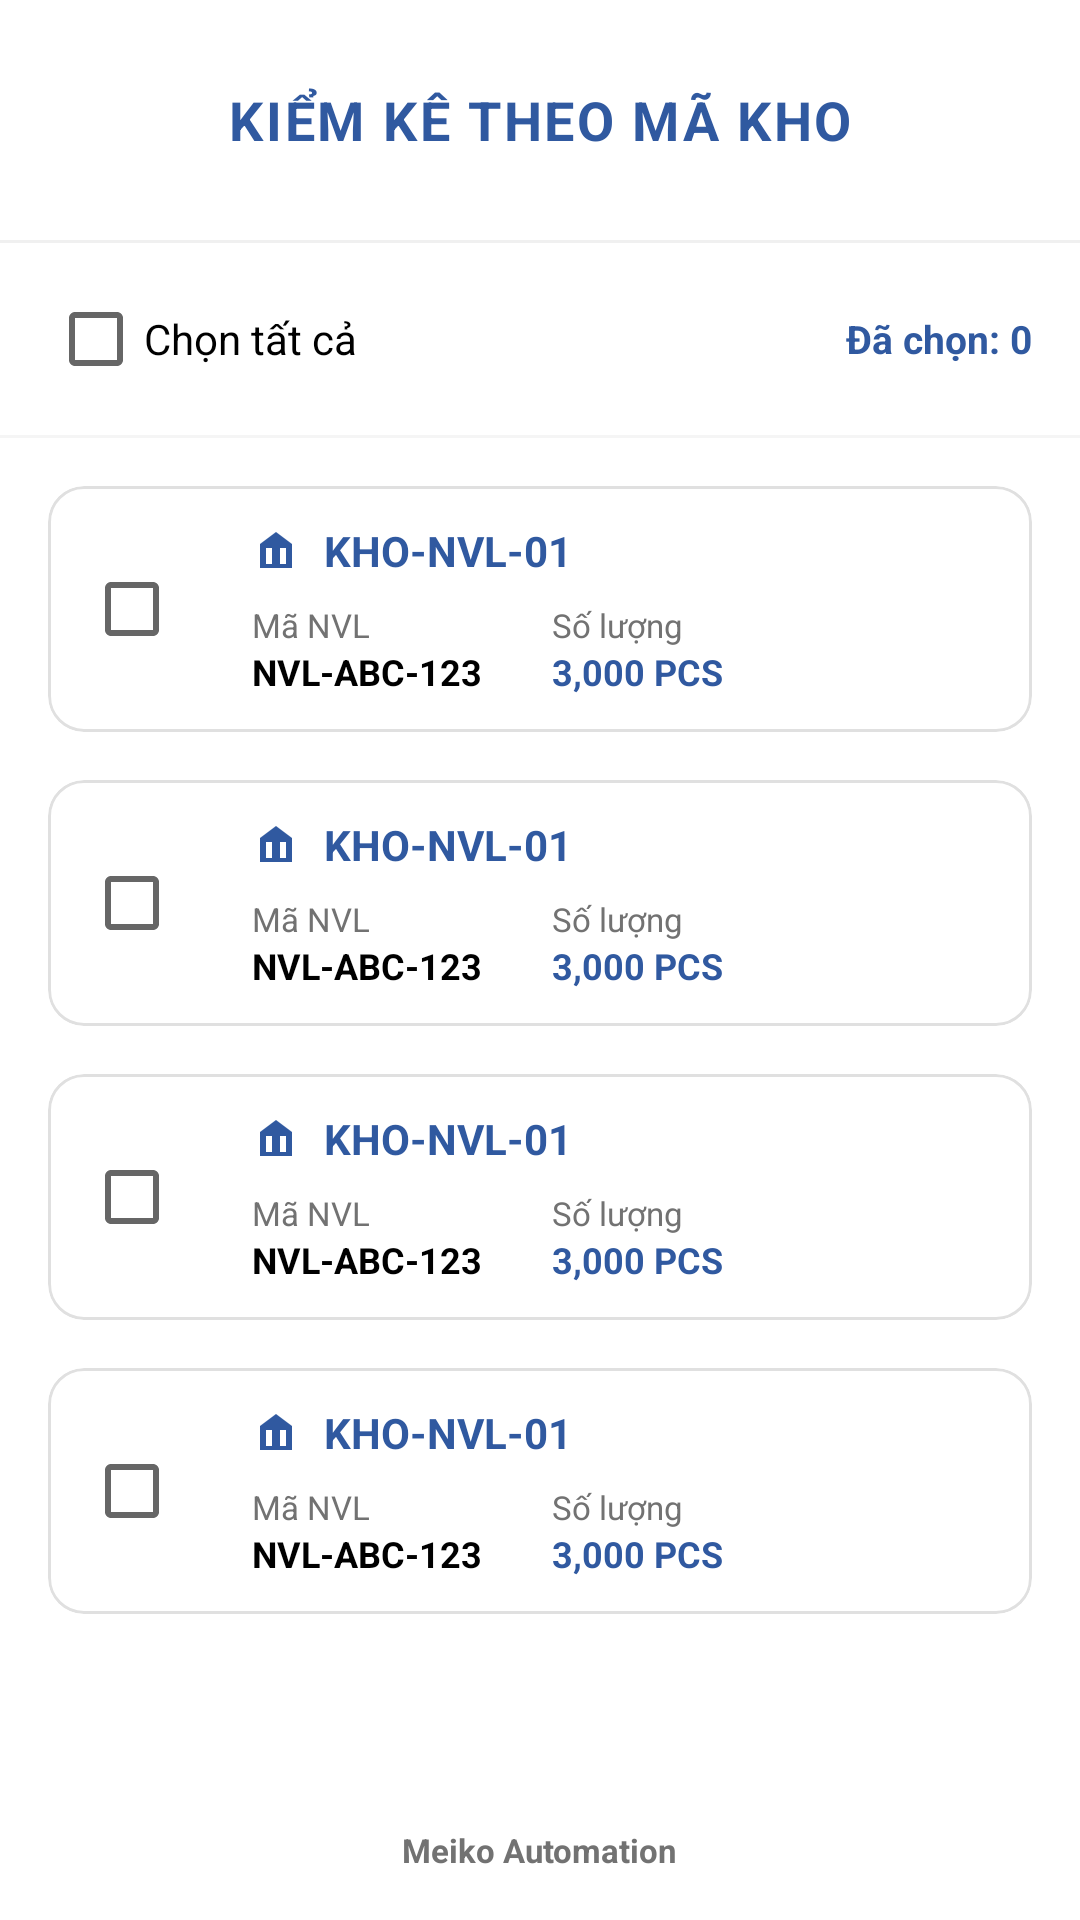

Where icons sit on this 1080px×1920px app screen, as (x1, y1, x2, y2):
warehouse: (260, 532, 292, 568), (260, 826, 292, 862), (260, 1120, 292, 1156), (260, 1414, 292, 1450)
